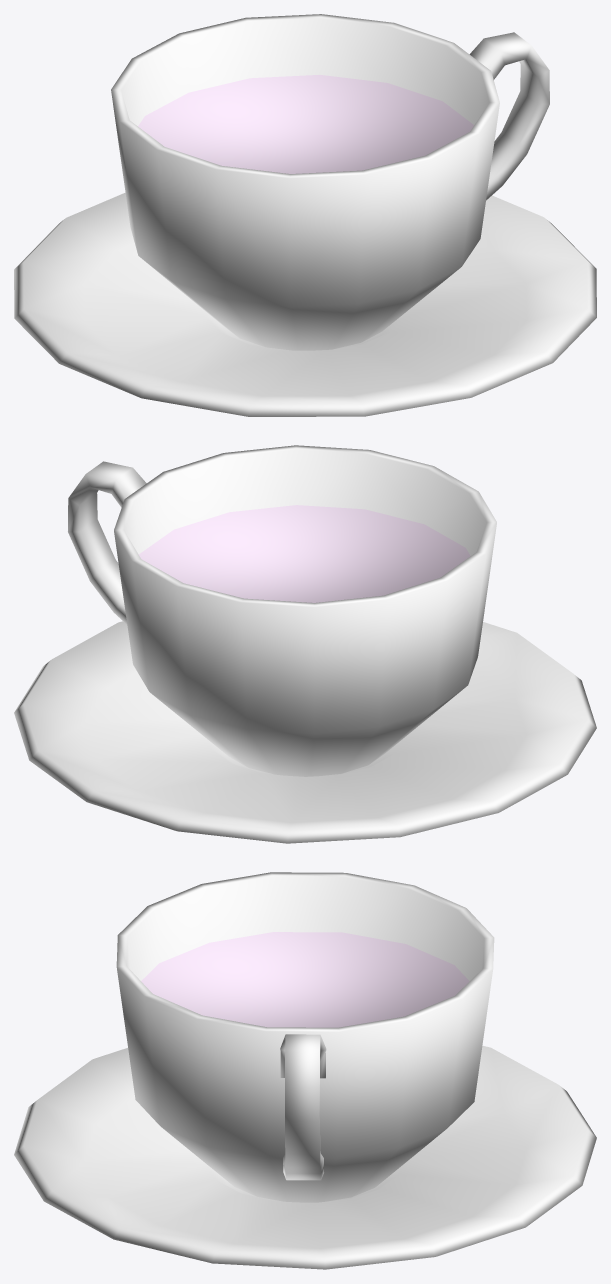
The model's file is Cup_of_tea.fbx.
The picture shows the model from 3 angles, top to bottom: view 1: azimuth 30°, elevation 25°; view 2: azimuth 150°, elevation 25°; view 3: azimuth 270°, elevation 25°; orthographic projection.
Visible parts, largest first — view 1: Cup_of_tea; view 2: Cup_of_tea; view 3: Cup_of_tea.
Part boxes in pixels (left/top/right/bottom): Cup_of_tea: left=14, top=14, right=596, bottom=416; Cup_of_tea: left=14, top=445, right=596, bottom=843; Cup_of_tea: left=14, top=872, right=596, bottom=1269.
Size of the model in its own units: 0.226 by 0.101 by 0.226.
